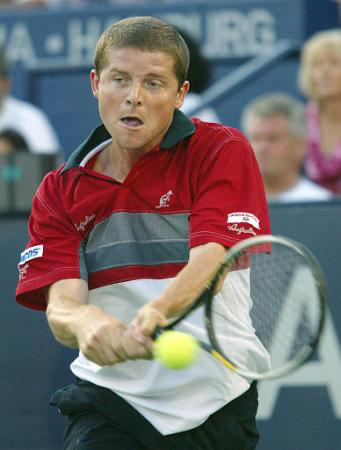Face: (96, 53, 174, 152)
